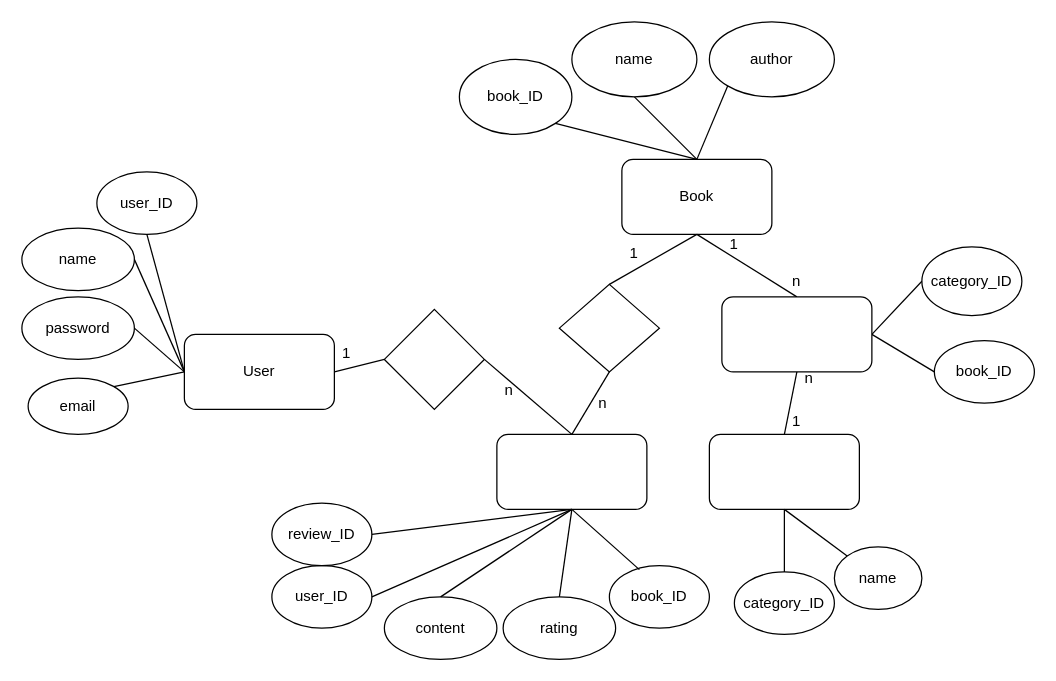
The diagram is 1056 pixels wide and 681 high, and some of its shapes have lost their labels. Here are the shapes that lost their labels. From the top down, the centre of each, then its label:
At point (608, 327): "have".
At point (796, 334): "Categorization".
At point (433, 358): "write".
At point (571, 471): "Review".
At point (783, 471): "Category".
